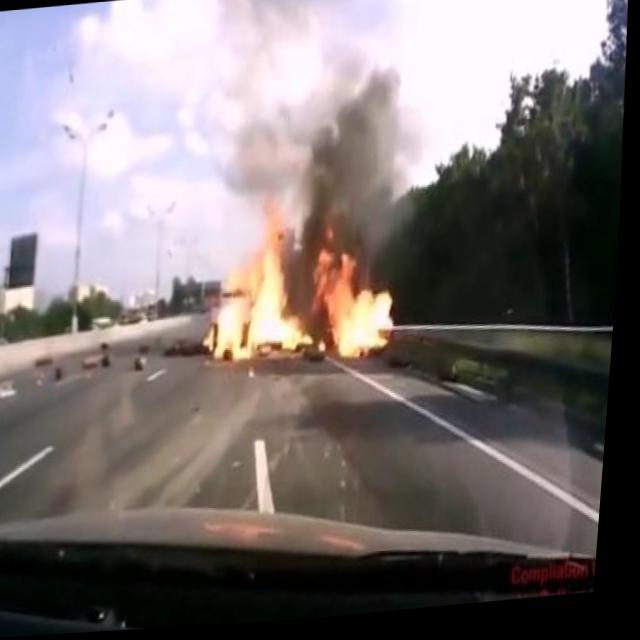fire: (196, 203, 411, 382)
